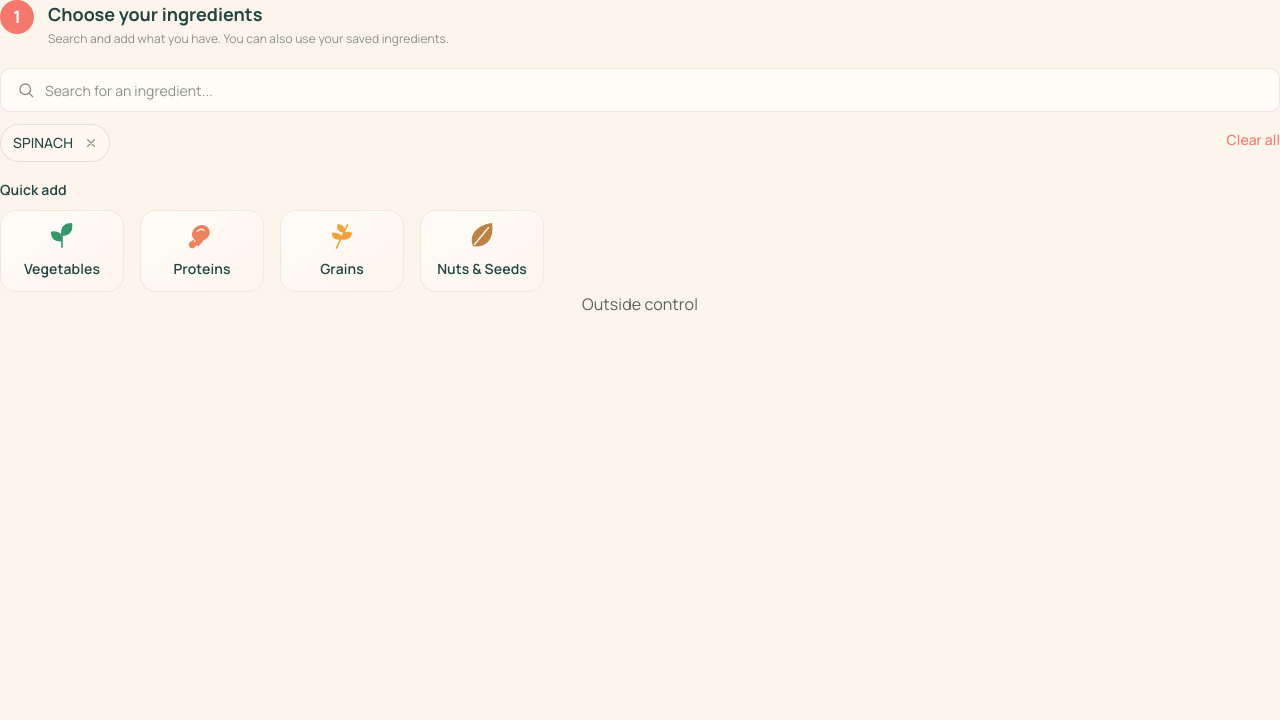
Test case: ingredient Quick add integration › shares case/trim identity and can remove a differently cased selected name
Click the button "Vegetables" at [62, 251], box [0,210,124,292]
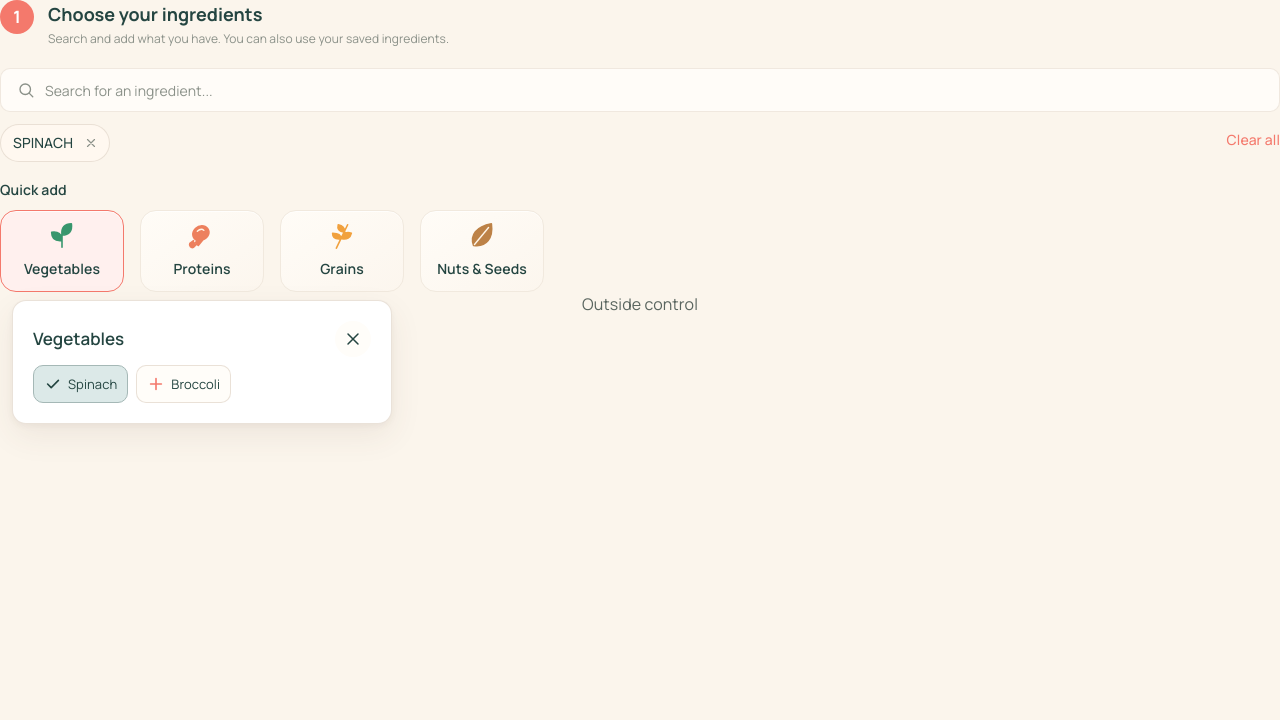
Now the number of buttons "Spinach" is 1
Click the button "Spinach" at [81, 384], box [33,365,128,403]
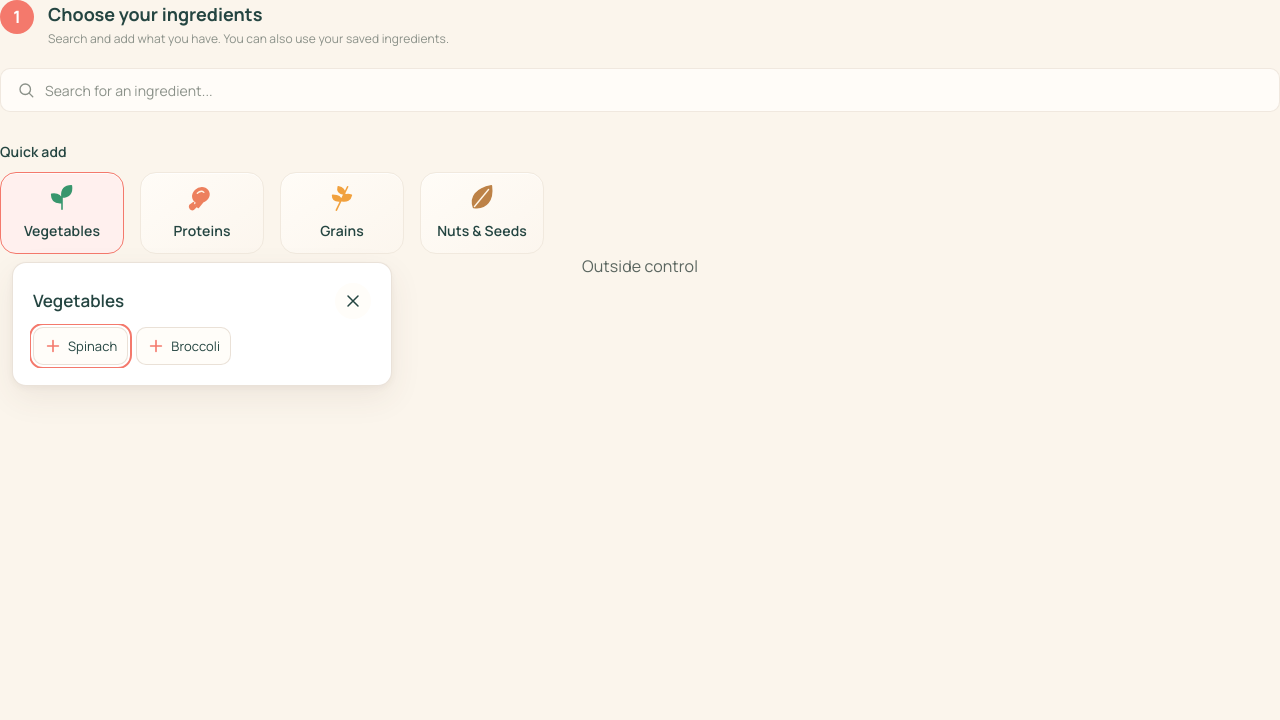
Now the button "Spinach" is not pressed
Click the button "Spinach" at [81, 346], box [33,327,128,365]
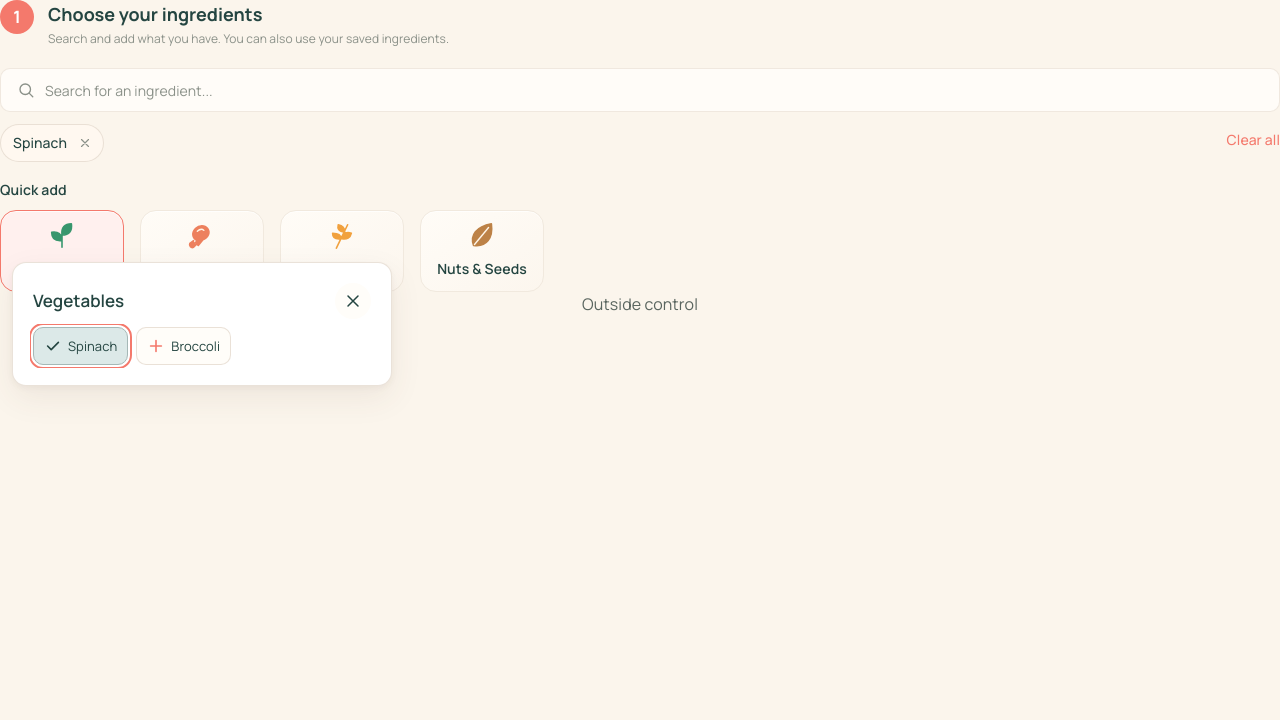
Now the number of buttons named "Remove Spinach" is 1, box [71,129,99,157]
